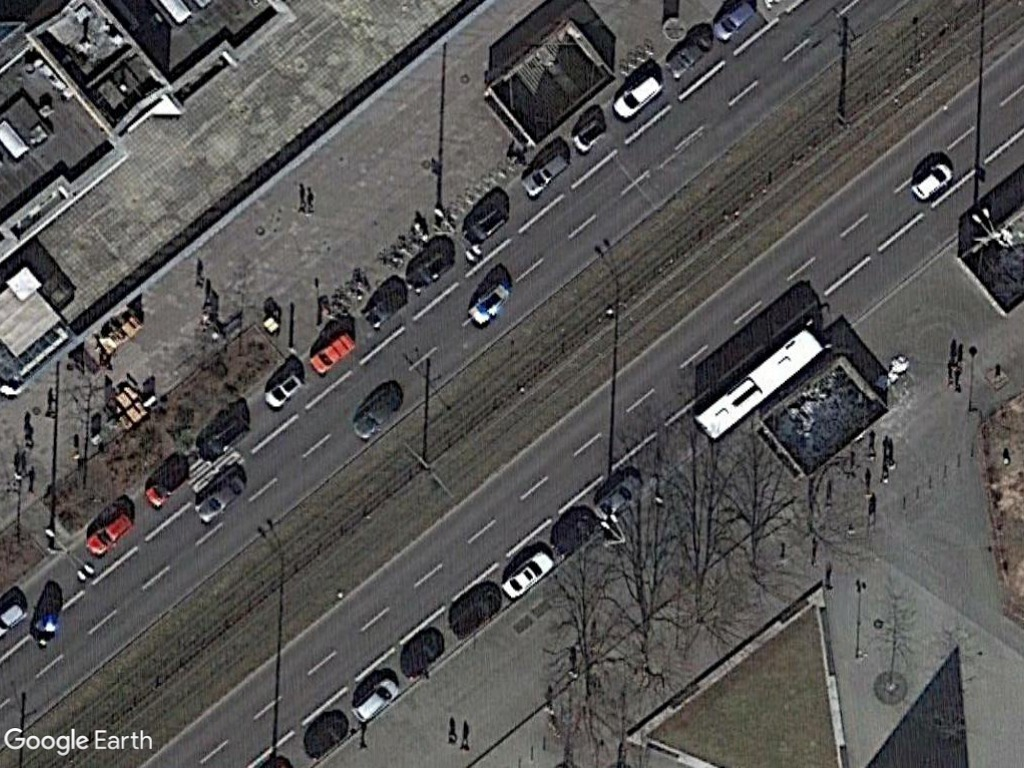bus: (689, 321, 828, 447)
car: (189, 469, 254, 527), (497, 547, 559, 607), (607, 67, 668, 126), (78, 505, 141, 562), (518, 146, 572, 204), (349, 672, 406, 726), (303, 326, 359, 376), (907, 157, 958, 203), (712, 0, 764, 45), (256, 368, 305, 412)
